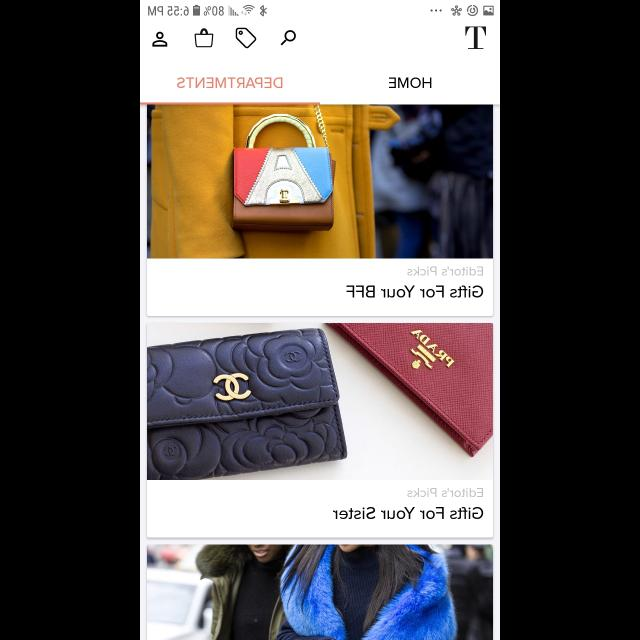icon: (236, 28, 256, 50), (194, 28, 213, 48), (280, 30, 296, 46), (152, 32, 168, 48)
image: (147, 324, 493, 481), (147, 105, 493, 259), (147, 544, 493, 640)
text: (333, 506, 483, 520), (346, 286, 484, 298), (177, 78, 283, 89), (407, 266, 483, 276), (406, 487, 482, 497), (464, 26, 486, 49), (388, 78, 432, 89)
uppertaskbar: (140, 1, 500, 18)
